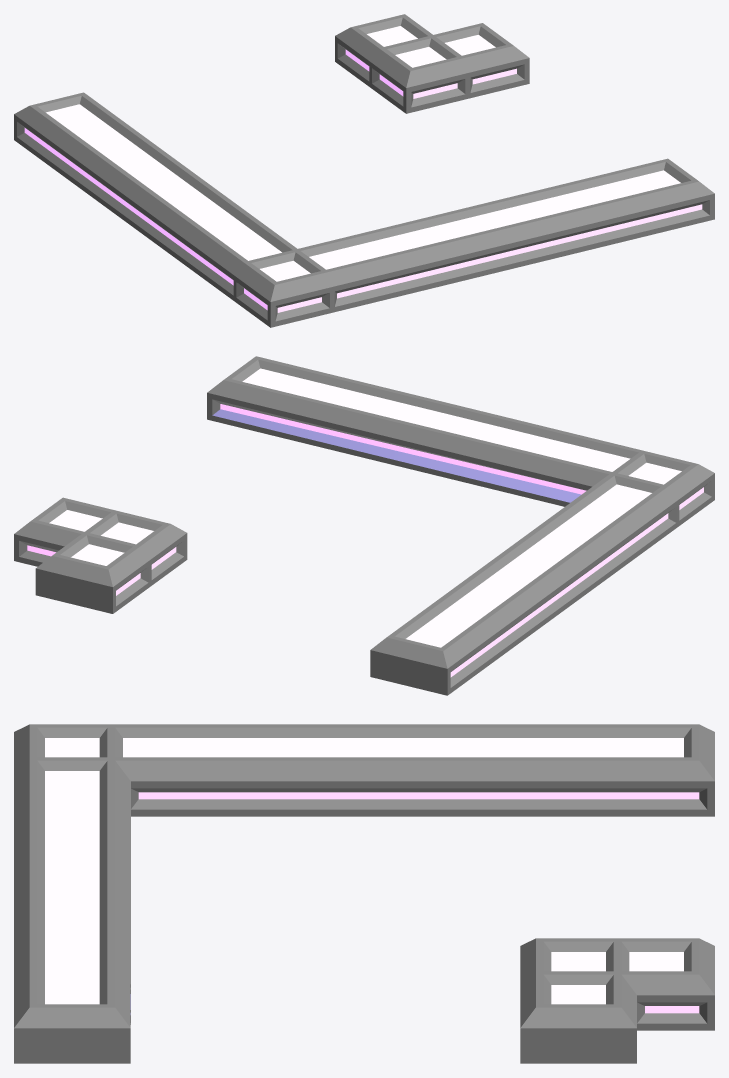
The model's file is RailCorner.FBX.
The picture shows the model from 3 angles, top to bottom: view 1: azimuth 30°, elevation 25°; view 2: azimuth 150°, elevation 25°; view 3: azimuth 270°, elevation 25°; orthographic projection. The views are drawn at different scales.
Parts seen in each view (by area): view 1: RailCorner_high; view 2: RailCorner_high; view 3: RailCorner_high.
Boxes of the visible parts, x1,y1,x2,y2 form: RailCorner_high: [14, 14, 714, 327]; RailCorner_high: [14, 356, 714, 695]; RailCorner_high: [14, 724, 714, 1063].
Bounding box in the file's own units: 90 × 90 × 7.
